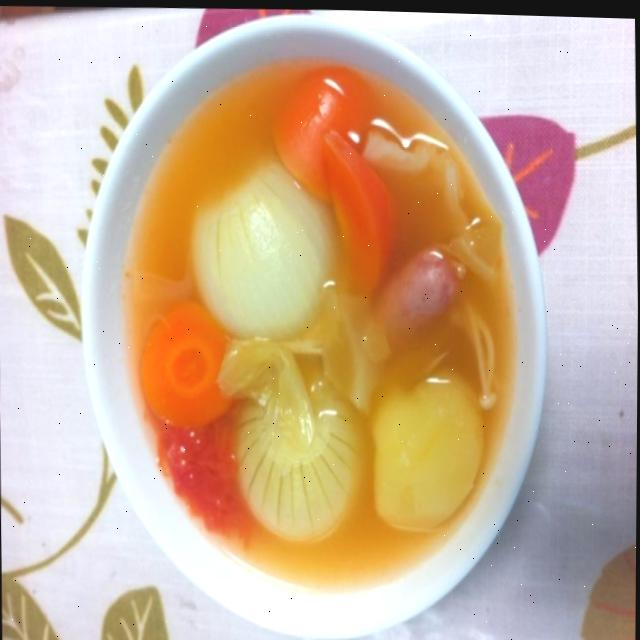汤锅炖物: (76, 26, 548, 629)
